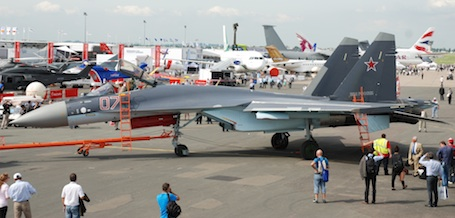Su35: (5, 29, 453, 158)
